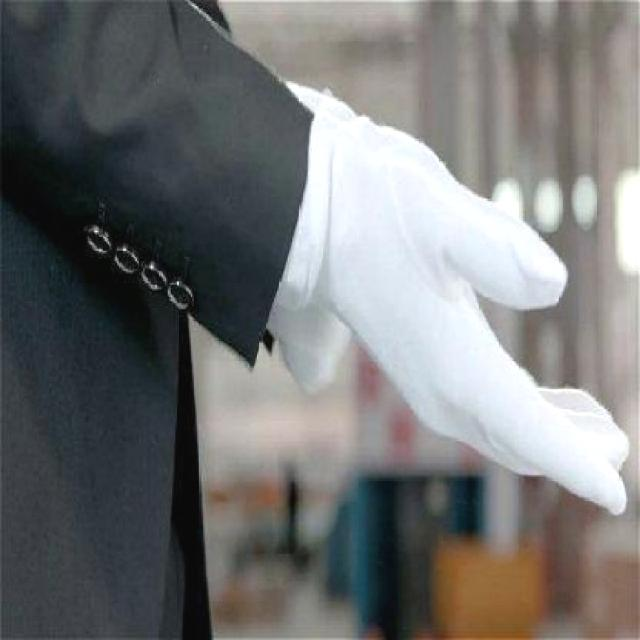hand_glove: (336, 155, 630, 510)
